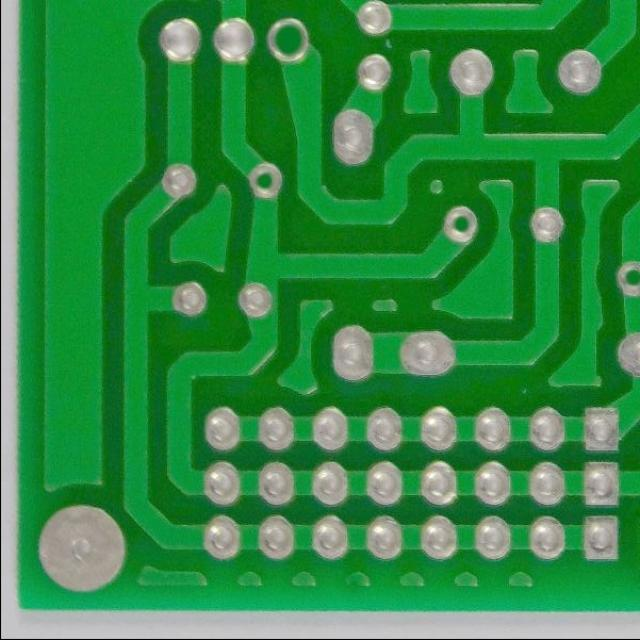missing_hole: (264, 18, 310, 67), (442, 206, 476, 242), (246, 165, 281, 199), (613, 260, 638, 297)
